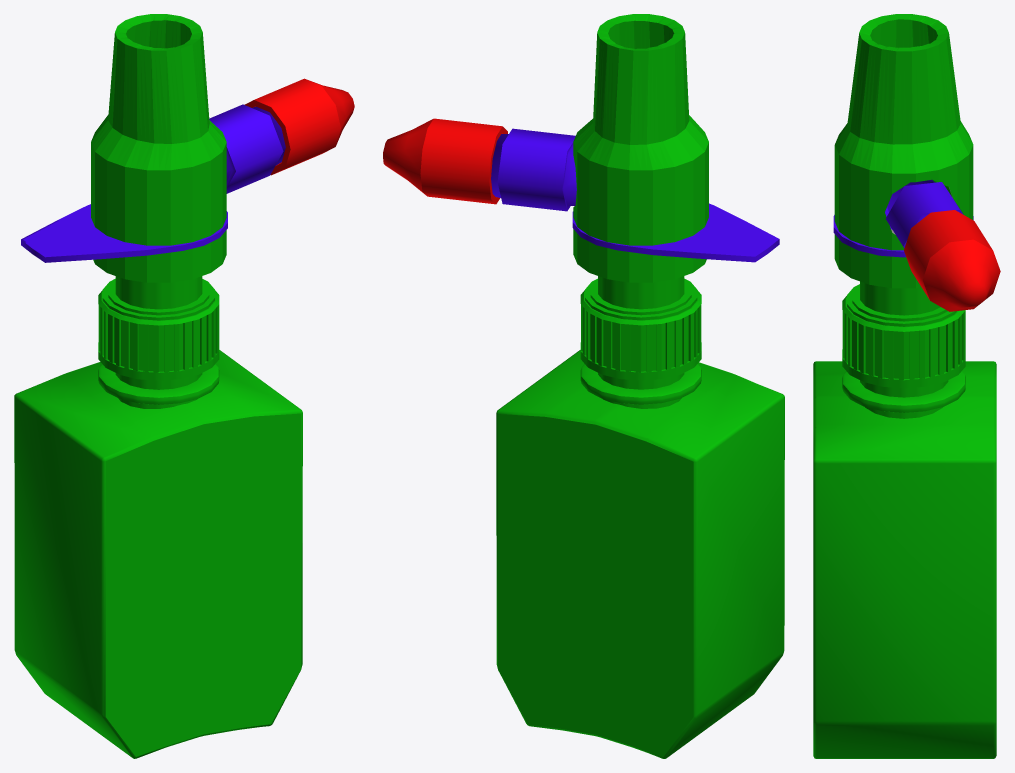
The model's file is Squeeze_Bottlev2FBX.FBX.
3 views of the same model, side by side, from view 1: azimuth 30°, elevation 25°; view 2: azimuth 150°, elevation 25°; view 3: azimuth 270°, elevation 25° (orthographic). The views are drawn at different scales.
Parts seen in each view (by area): view 1: Squeeze_Bottle; view 2: Squeeze_Bottle; view 3: Squeeze_Bottle.
Part boxes in pixels (<box>): Squeeze_Bottle: <box>14,14,354,758</box>; Squeeze_Bottle: <box>383,14,784,758</box>; Squeeze_Bottle: <box>813,14,1000,758</box>.
Bounding box in the file's own units: 94.87 × 175 × 43.03.
